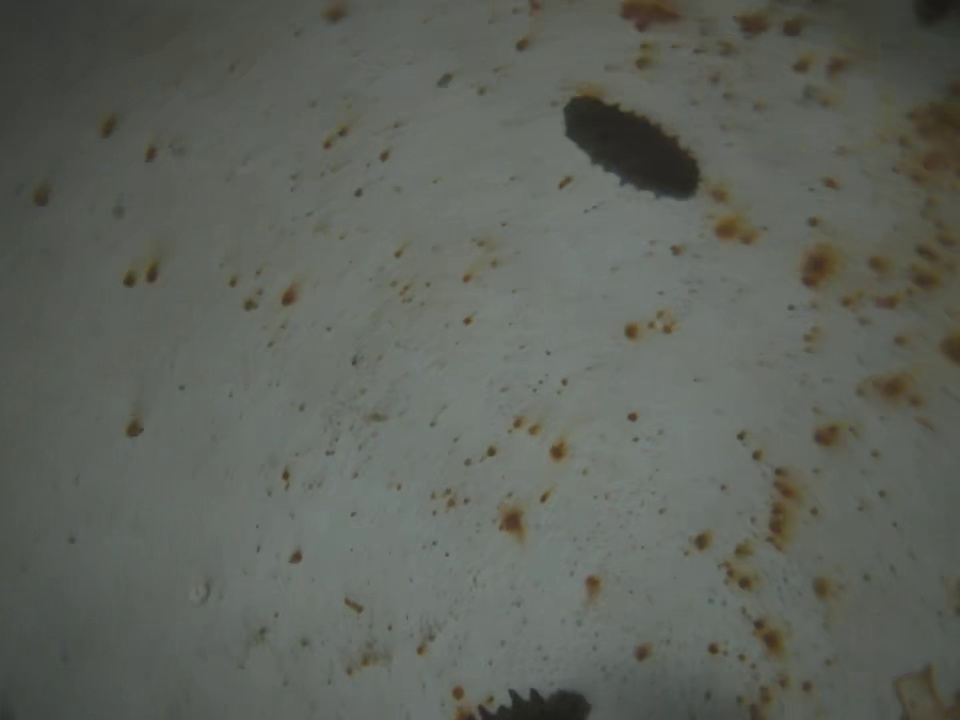seacucumber: (561, 91, 701, 202), (457, 683, 597, 720)
